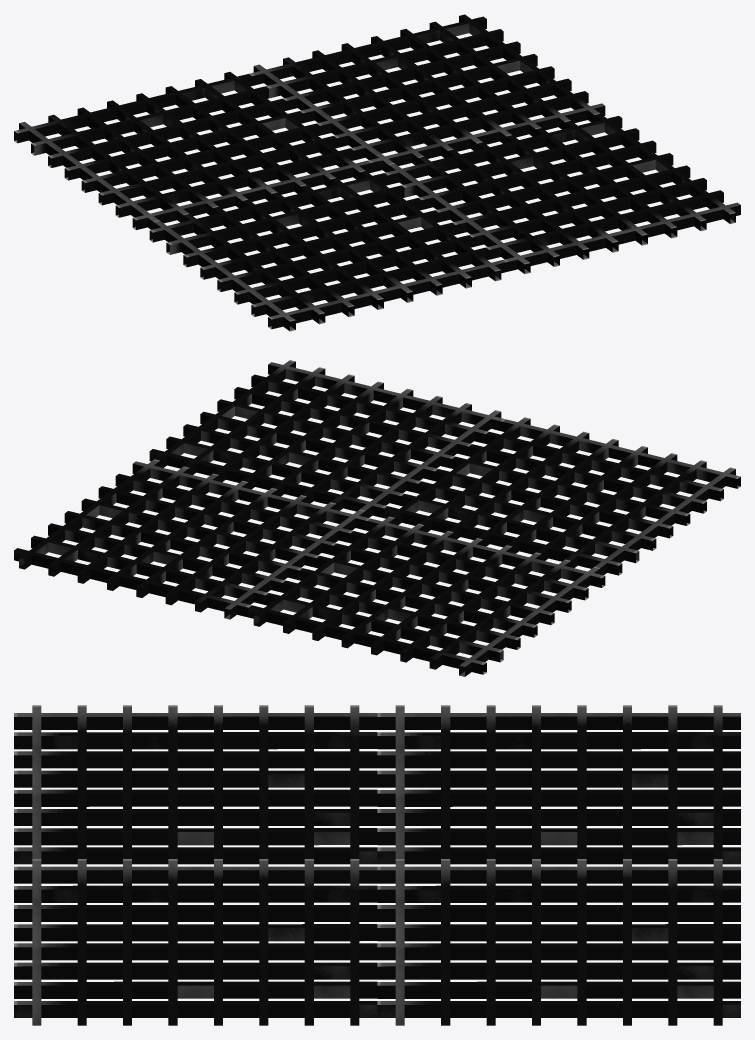
The picture shows the model from 3 angles, top to bottom: view 1: azimuth 30°, elevation 25°; view 2: azimuth 150°, elevation 25°; view 3: azimuth 270°, elevation 25°; orthographic projection. The views are drawn at different scales.
Parts seen in each view (by area): view 1: Grid__10_, Grid__8_, Grid__3_, Grid__2_; view 2: Grid__3_, Grid__2_, Grid__10_, Grid__8_; view 3: Grid__2_, Grid__8_, Grid__10_, Grid__3_.
Part boxes in pixels (x1=…): Grid__10_: x1=149, y1=171, x2=506, y2=331; Grid__8_: x1=384, y1=113, x2=740, y2=273; Grid__3_: x1=14, y1=72, x2=370, y2=229; Grid__2_: x1=249, y1=14, x2=605, y2=172; Grid__3_: x1=248, y1=516, x2=605, y2=676; Grid__2_: x1=14, y1=459, x2=370, y2=619; Grid__10_: x1=384, y1=417, x2=740, y2=575; Grid__8_: x1=149, y1=360, x2=505, y2=518; Grid__2_: x1=377, y1=859, x2=740, y2=1025; Grid__8_: x1=14, y1=859, x2=377, y2=1025; Grid__10_: x1=14, y1=705, x2=377, y2=864; Grid__3_: x1=377, y1=705, x2=740, y2=864.
Bounding box in the file's own units: 1200 × 24.21 × 1200.
